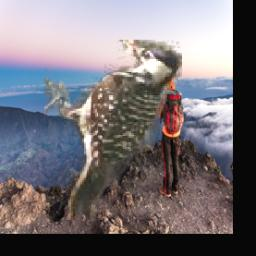Woodpecker: (43, 41, 181, 221)
